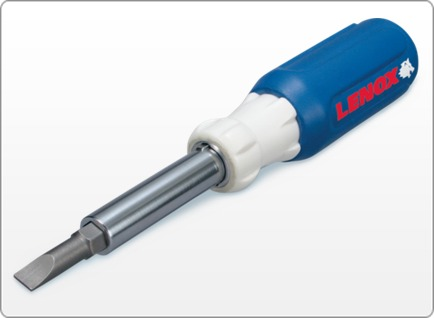screwdriver: (11, 14, 421, 293)
